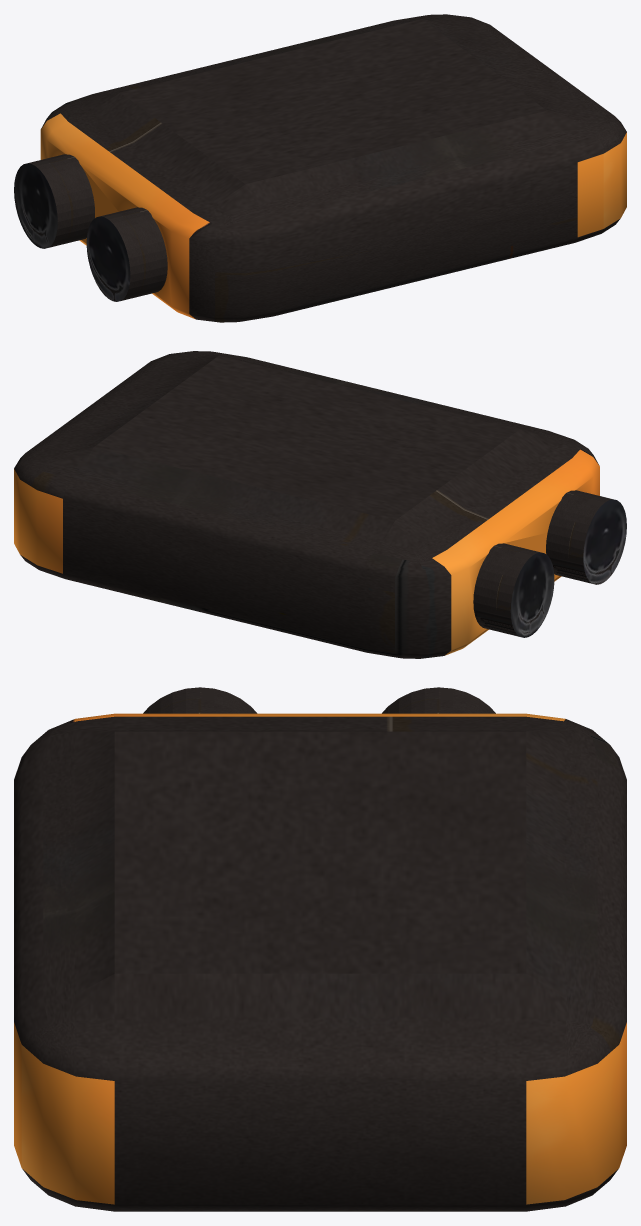
File: visor.fbx
The picture shows the model from 3 angles, top to bottom: view 1: azimuth 30°, elevation 25°; view 2: azimuth 150°, elevation 25°; view 3: azimuth 270°, elevation 25°; orthographic projection. The views are drawn at different scales.
Visible parts, largest first — view 1: Cube; view 2: Cube; view 3: Cube.
Part boxes in pixels (x1,y1,x2,y2): Cube: (14, 14, 626, 322); Cube: (14, 351, 626, 658); Cube: (14, 687, 626, 1211).
Size of the model in its own units: 839 by 202 by 557.
